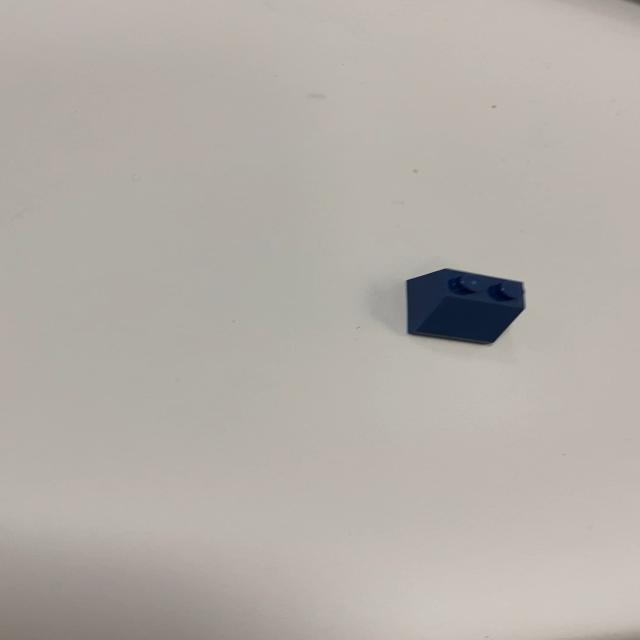P2x2x1: (404, 267, 526, 345)
